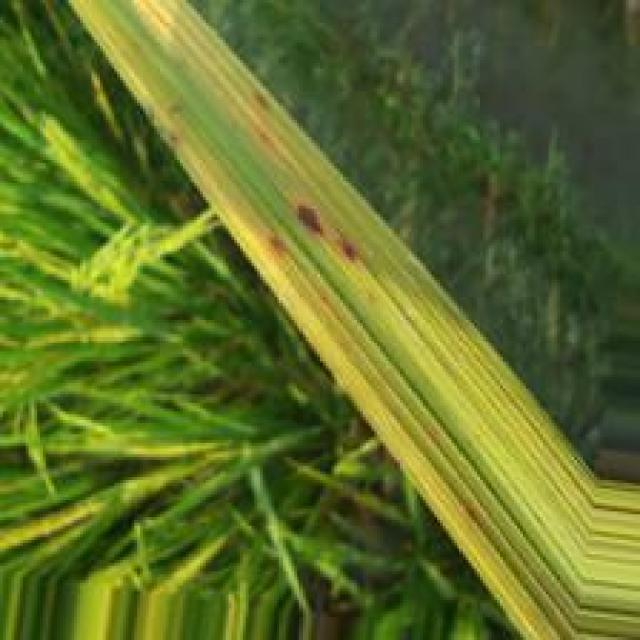Brown_Spot: (286, 195, 330, 242), (331, 227, 357, 265), (262, 226, 291, 260), (246, 86, 271, 113)
